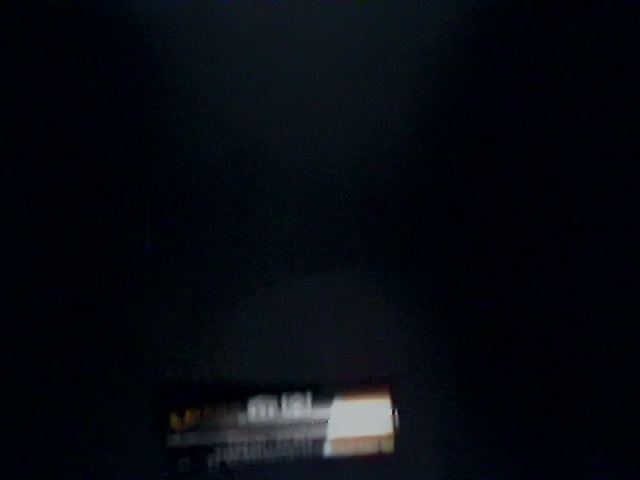QTLJ: (41, 157, 210, 381)
